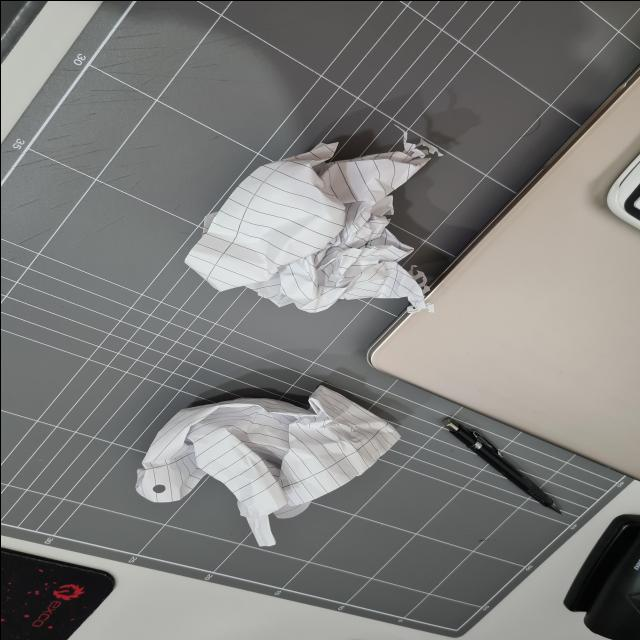kertas: (188, 138, 433, 312), (126, 386, 392, 542)
